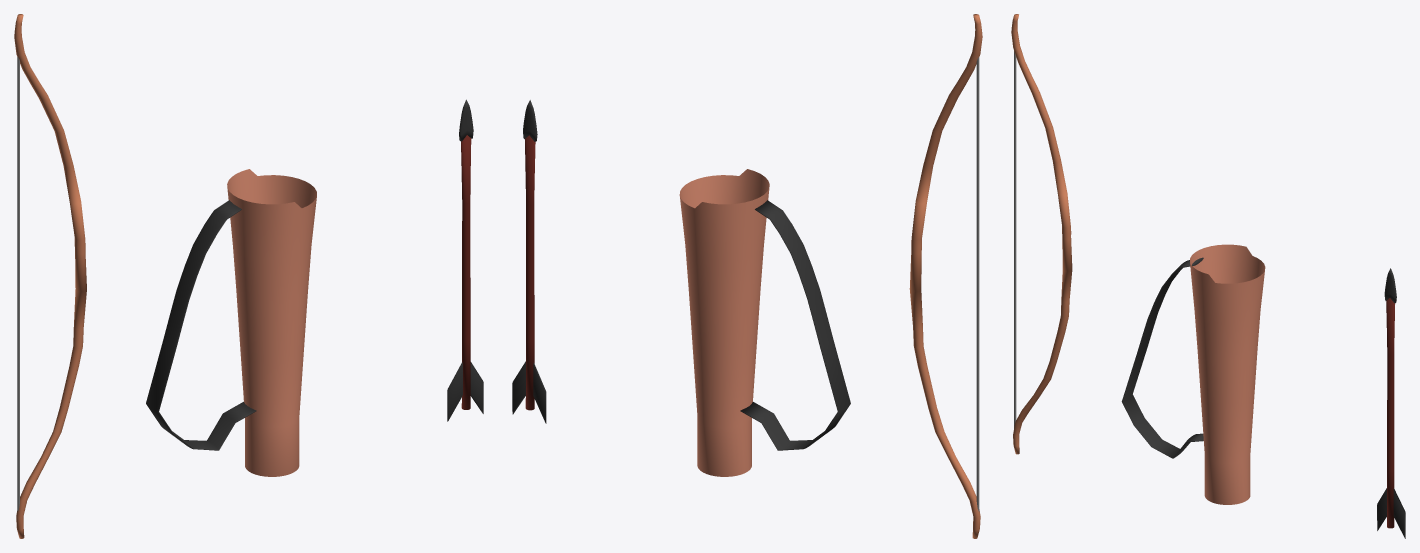
File: Enemy Bow colored.fbx
The picture shows the model from 3 angles, left to right: view 1: azimuth 30°, elevation 25°; view 2: azimuth 150°, elevation 25°; view 3: azimuth 330°, elevation 25°; orthographic projection. The views are drawn at different scales.
Visible parts, largest first — view 1: Belt, String, Feathers; view 2: Belt, String, Feathers; view 3: Belt, String, Feathers.
Boxes of the visible parts, x1,y1,x2,y2 form: Belt: (146,169,316,476); String: (14,14,86,538); Feathers: (447,99,483,421); Belt: (679,169,850,476); String: (909,14,982,538); Feathers: (512,100,546,423); Belt: (1121,244,1265,504); String: (1011,14,1072,454); Feathers: (1377,268,1405,538).
Size of the model in its own units: 398 by 424 by 66.24.
